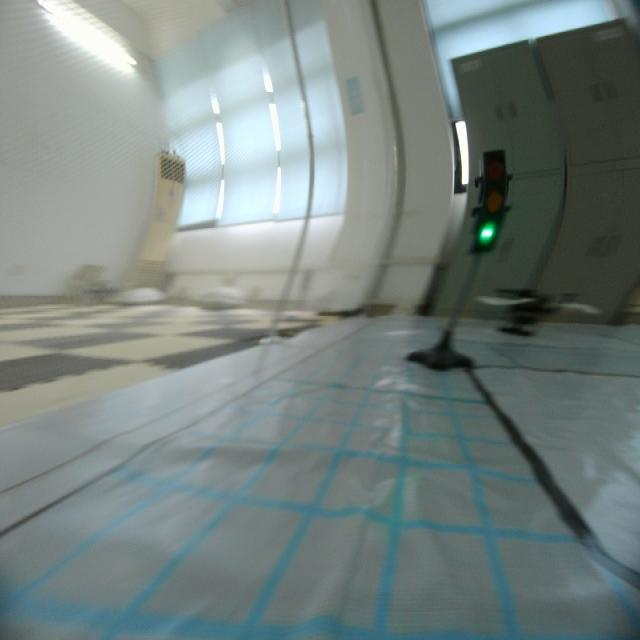green: (475, 143, 505, 261)
